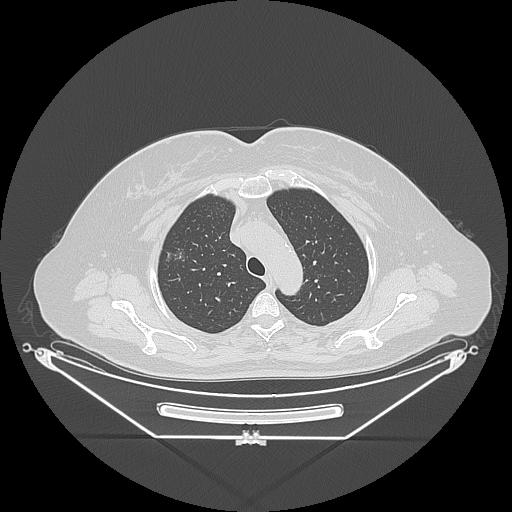nodule: (174, 249, 186, 260)
